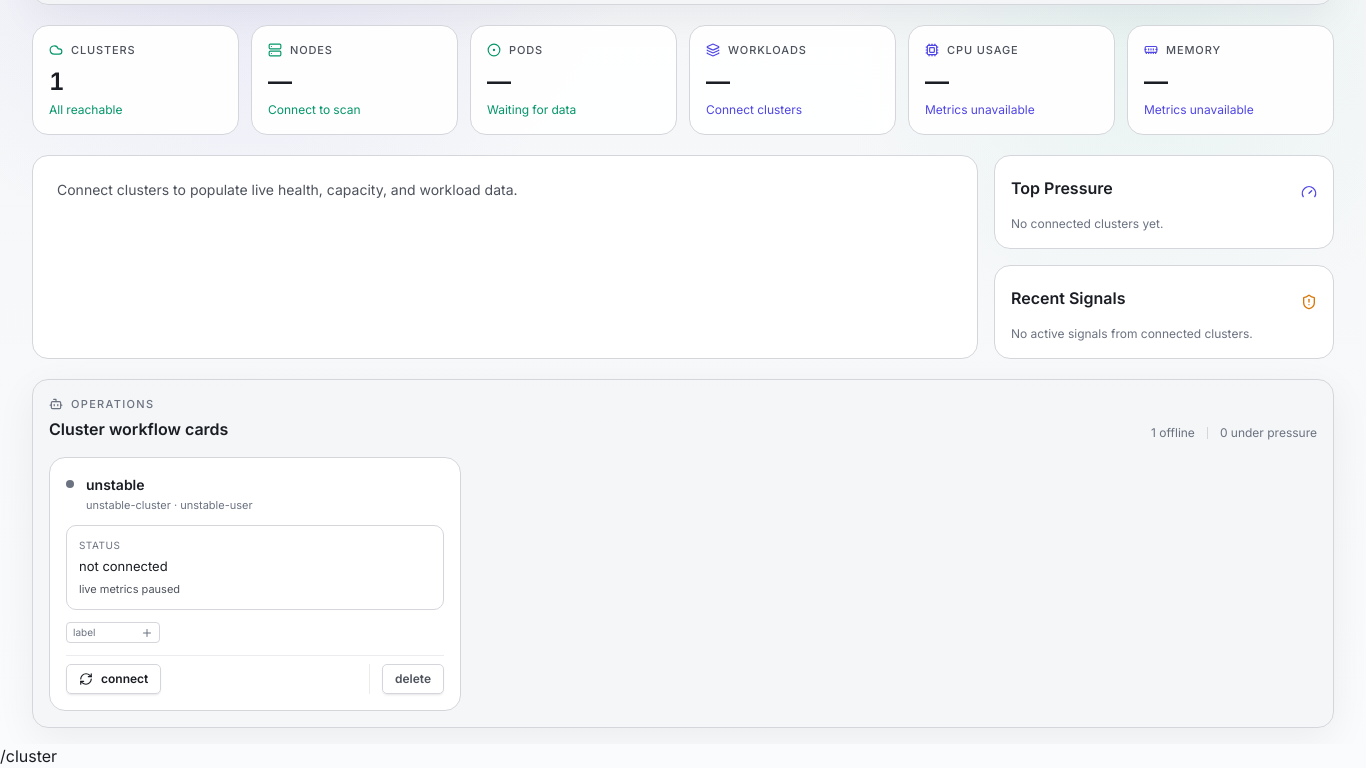
FleetView › captures a rejected retry as the latest safe diagnostic error
The image size is (1366, 768).
(page scrolled)
Click the button with aria-label "connect unstable".
click(114, 679)  # box [66, 664, 161, 694]
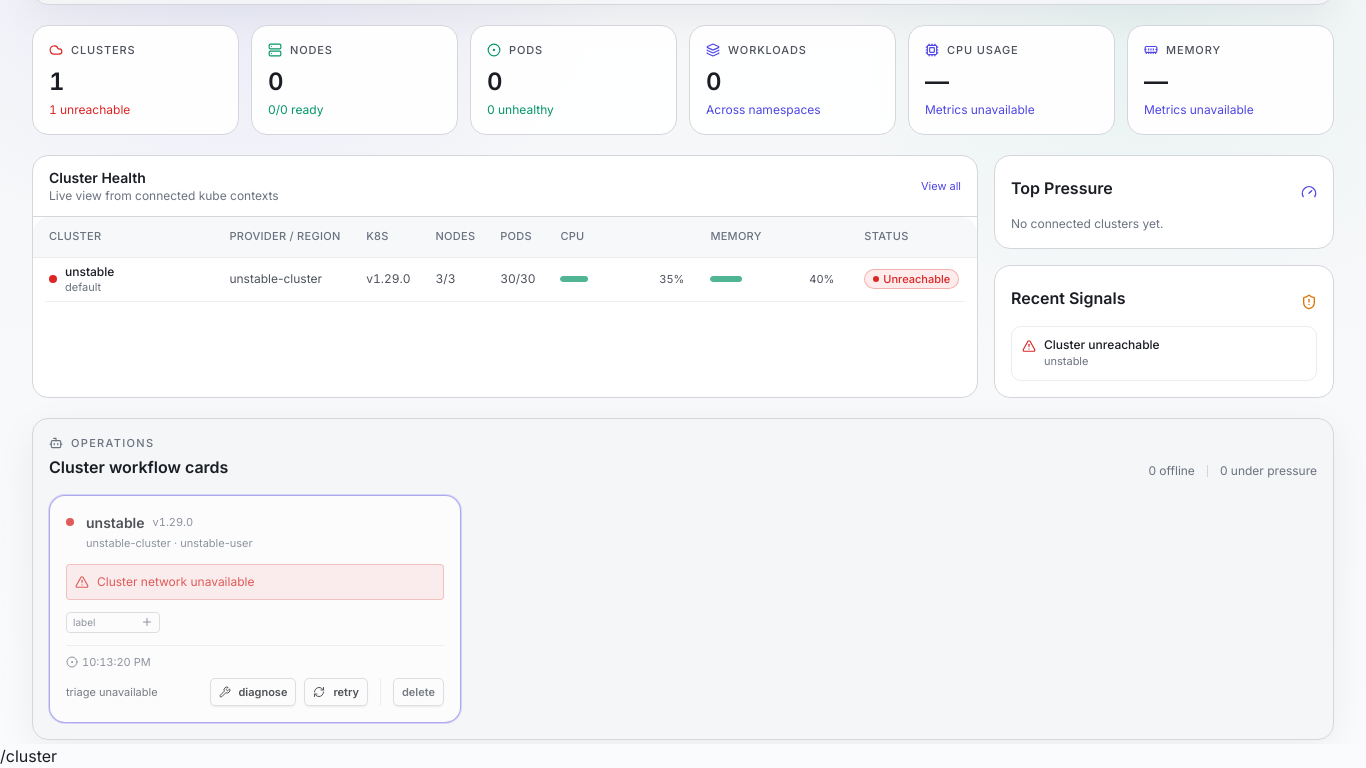
Click the button with aria-label "diagnose unstable".
click(253, 692)  # box [210, 678, 296, 706]
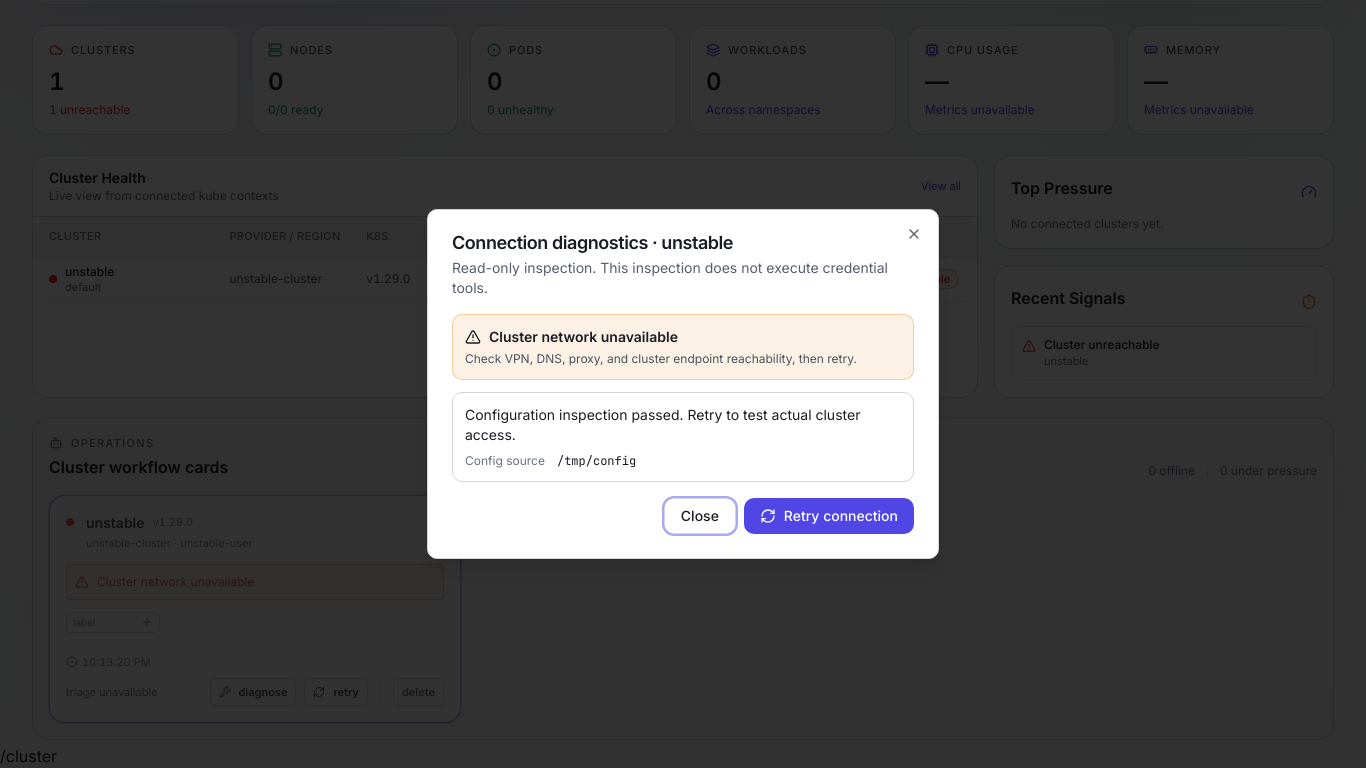
Result: the dialog "Connection diagnostics" is shown at [427, 209, 939, 559]
Click the button "Retry connection".
click(829, 516)  # box [744, 498, 914, 534]
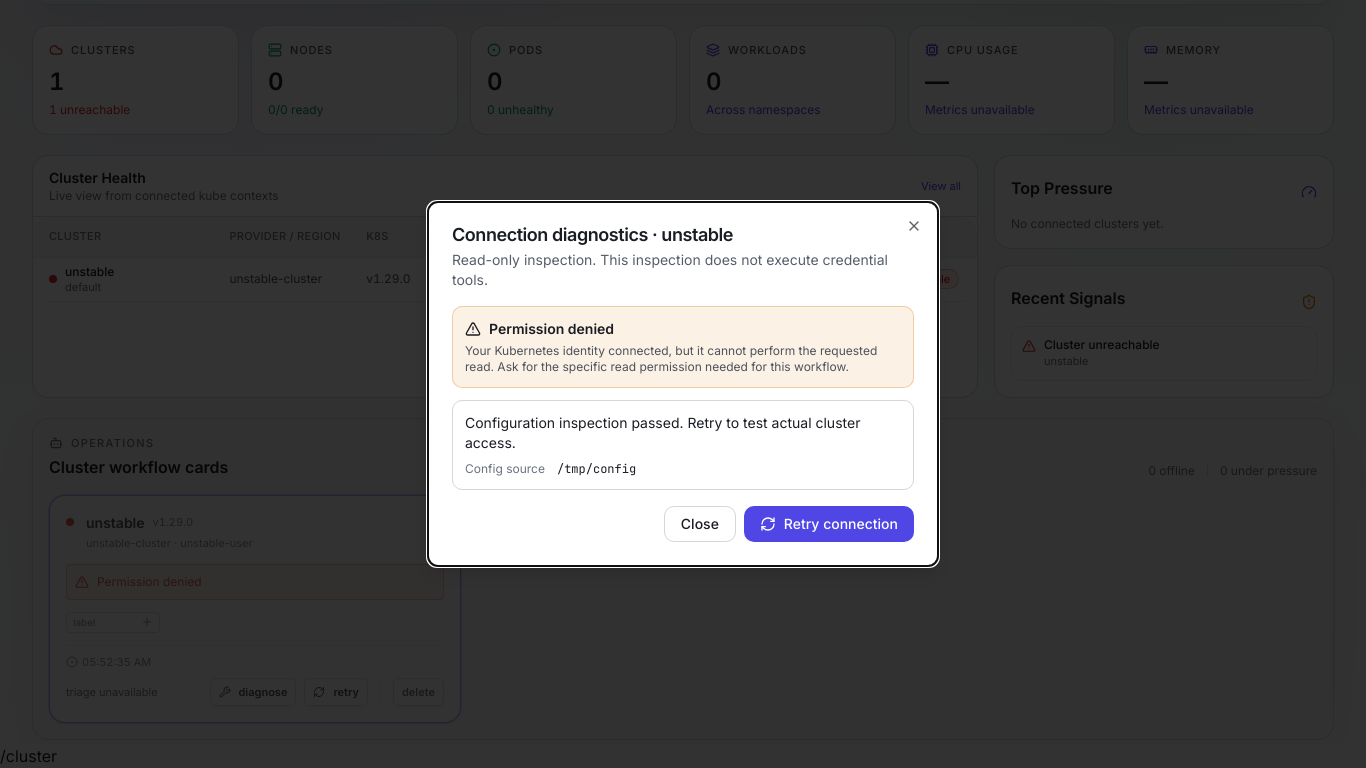
Result: the heading "Permission denied" is shown at [465, 320, 614, 337]
